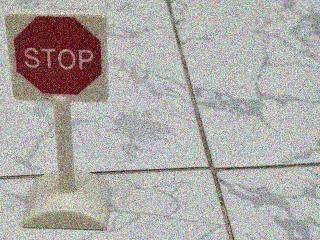stop: (0, 0, 121, 110)
